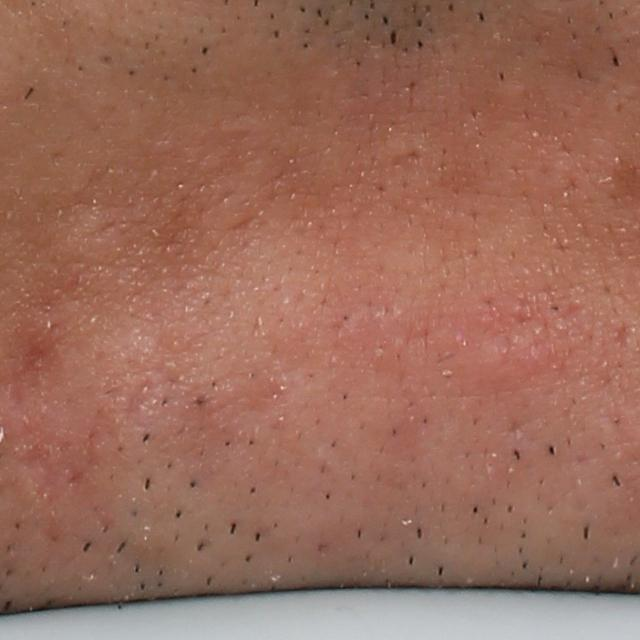atrophic_scar: (388, 146, 422, 173)
hypertrophic_scar: (50, 208, 130, 277)
